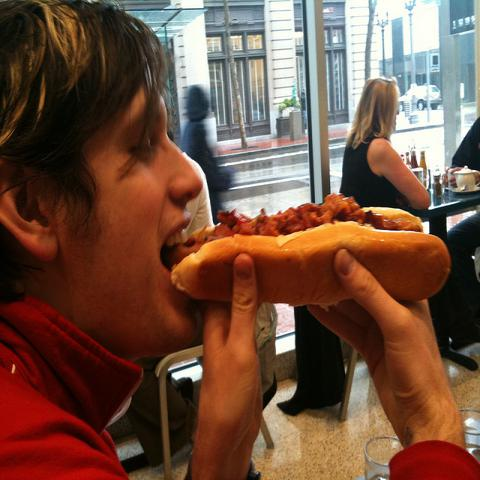car: (399, 85, 442, 112)
